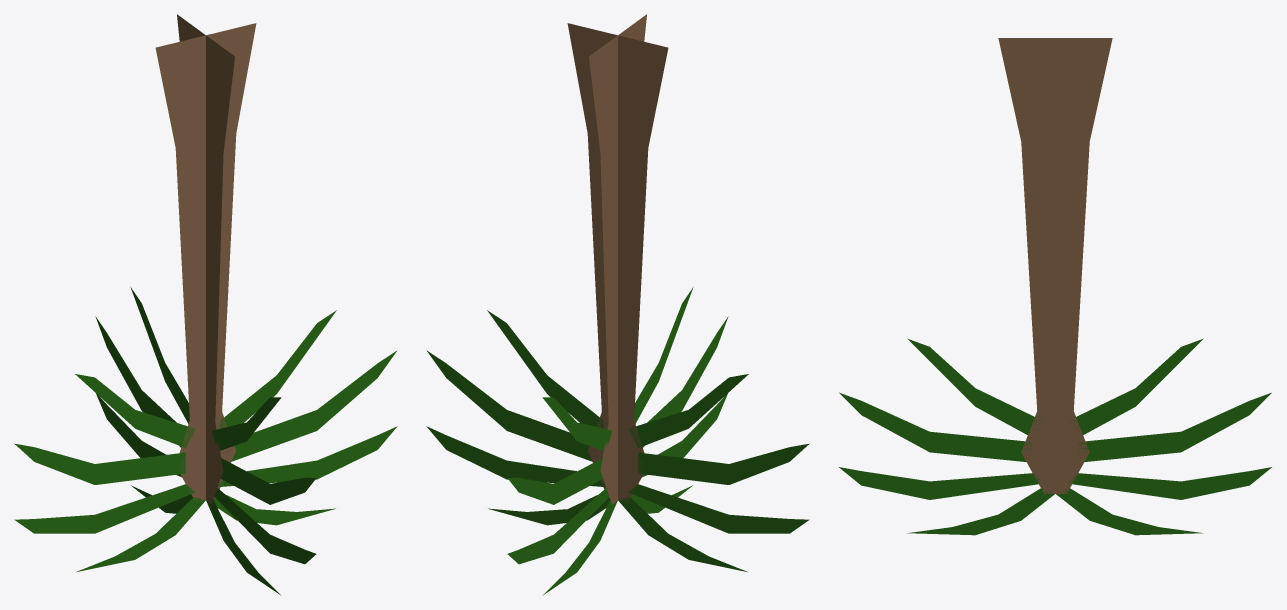
File: tre7.obj
3 views of the same model, side by side, from view 1: azimuth 30°, elevation 25°; view 2: azimuth 150°, elevation 25°; view 3: azimuth 270°, elevation 25° (orthographic). The views are drawn at different scales.
Bounding box in the file's own units: 532 × 672 × 532.
